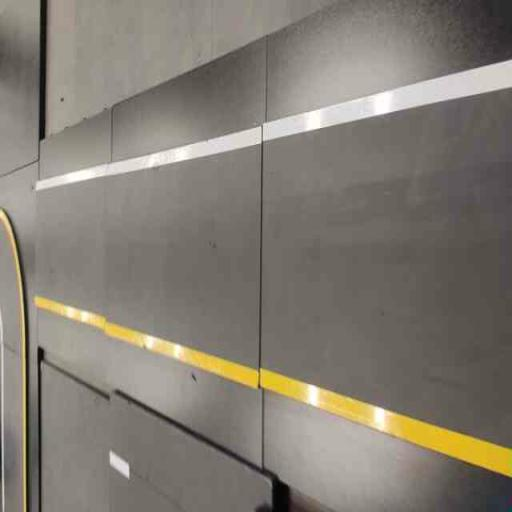straight: (317, 53, 511, 511)
